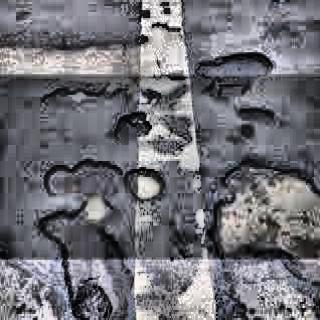pothole: (202, 151, 320, 262), (36, 209, 136, 320), (44, 154, 124, 208), (188, 48, 274, 86), (32, 81, 122, 112), (110, 108, 151, 144), (126, 167, 167, 202), (236, 104, 275, 128), (148, 18, 183, 38), (138, 84, 162, 110), (134, 31, 152, 49)
